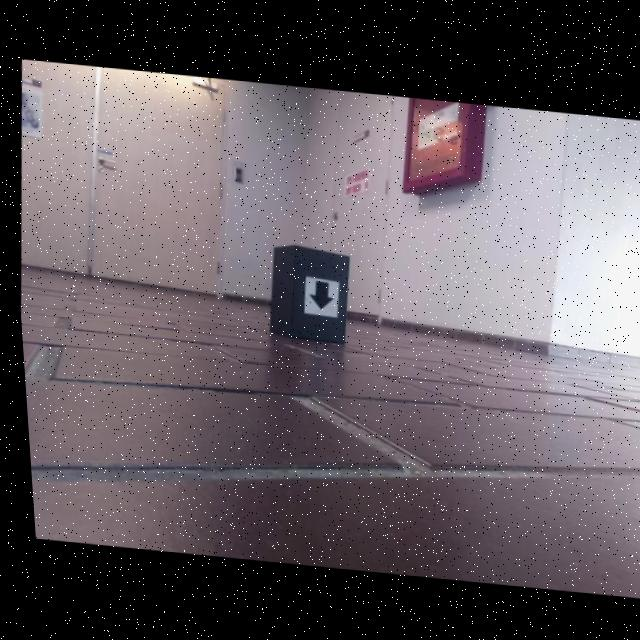DOWN: (303, 279, 329, 309)
